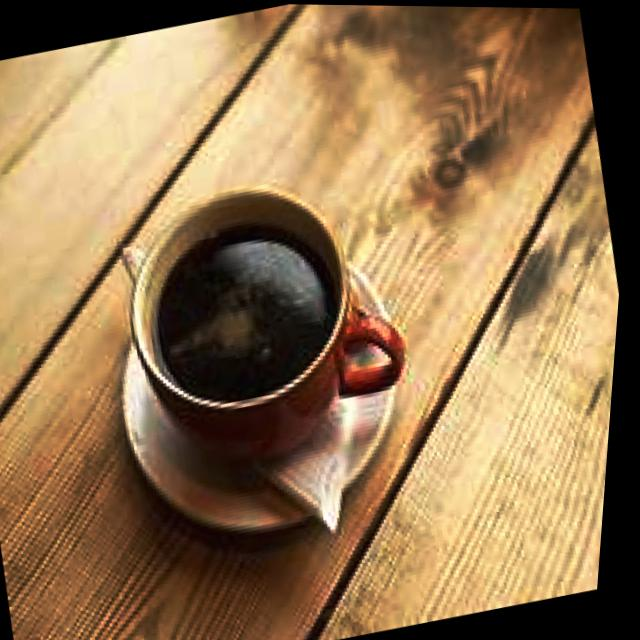drink: (129, 187, 406, 464)
